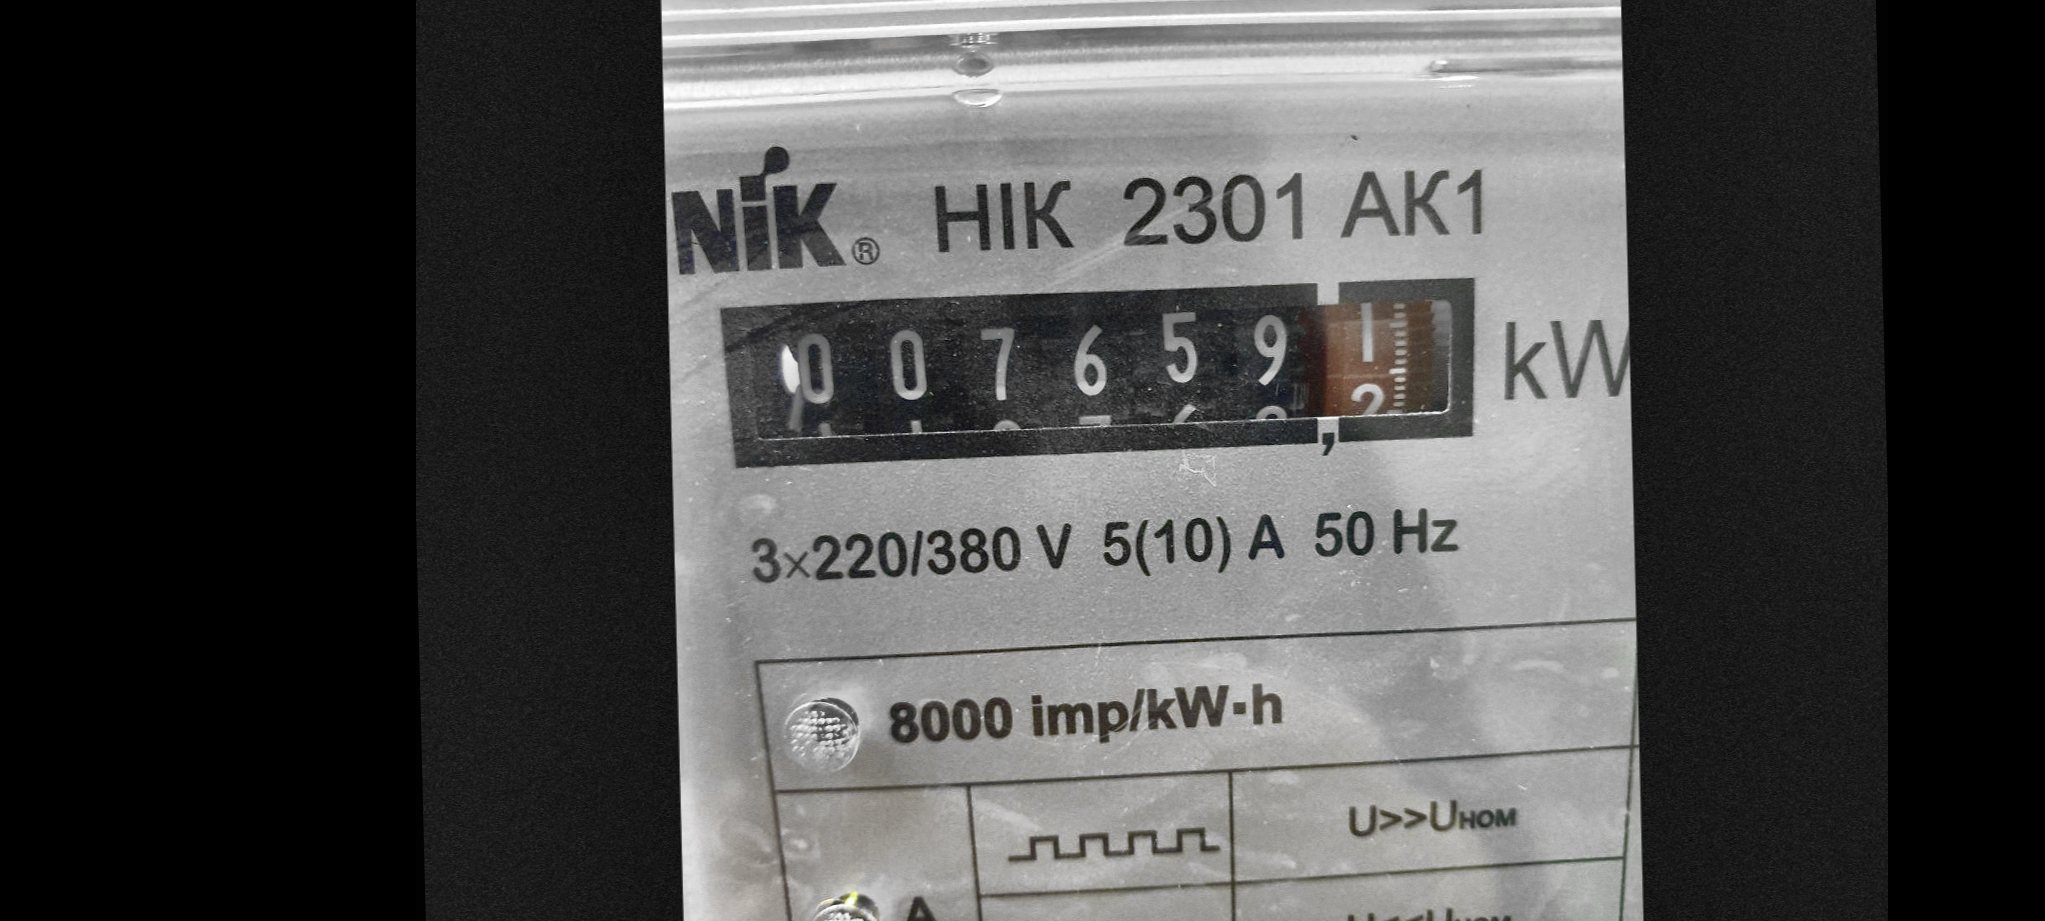0: (876, 321, 934, 410), (788, 325, 840, 416)
1: (1350, 296, 1386, 372)
5: (1154, 307, 1202, 390)
6: (1062, 318, 1114, 402)
7: (974, 322, 1019, 408)
9: (1247, 308, 1291, 397)
screen: (699, 258, 1499, 491)
